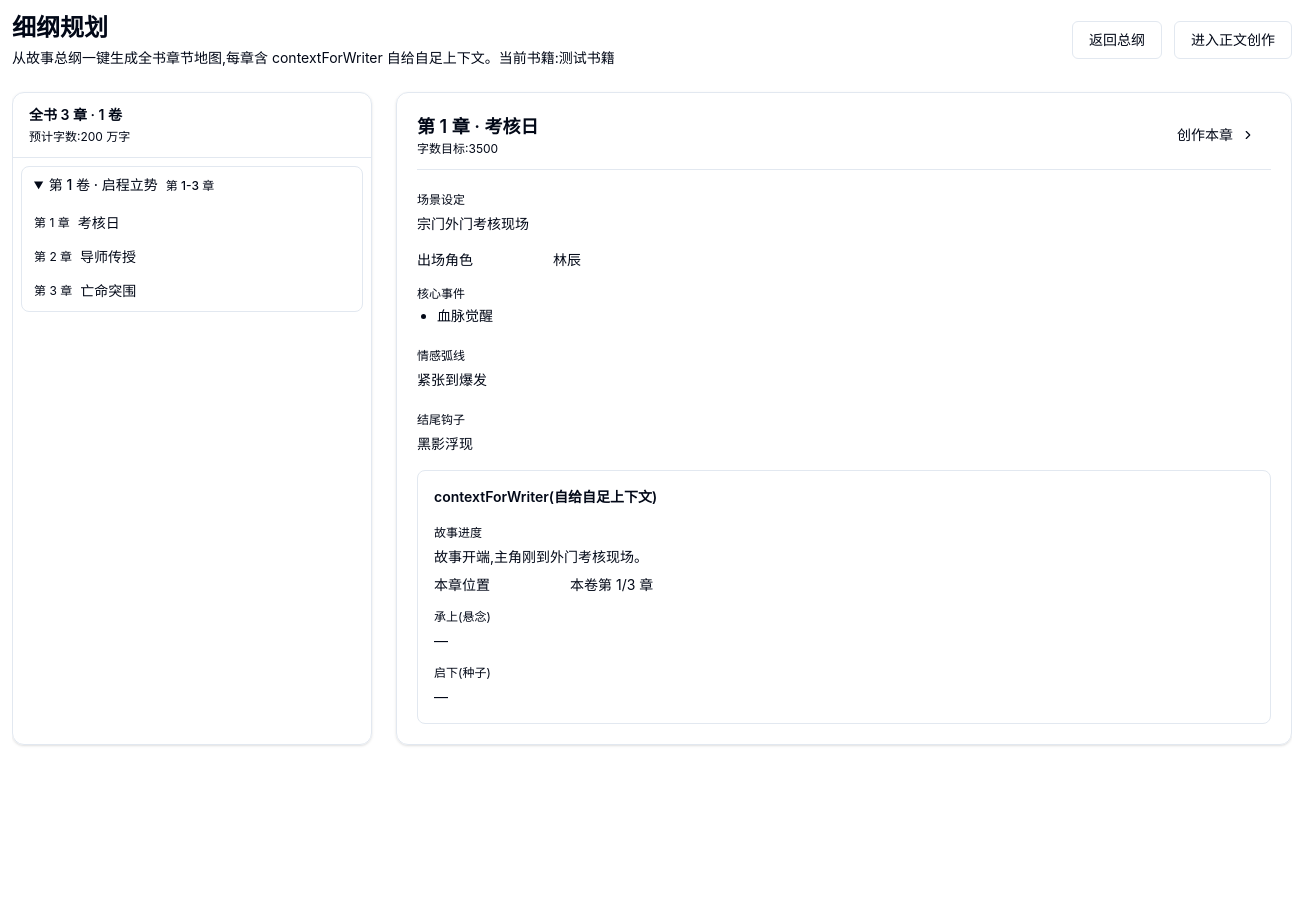
it: ChapterPlans Page (DetailedOutline) › switches the right panel when clicking a chapter
Expected: the text "考核日" is shown, [78,214,120,231]
Step 1. Click the text "导师传授" → [108, 256], box [80,248,136,265]
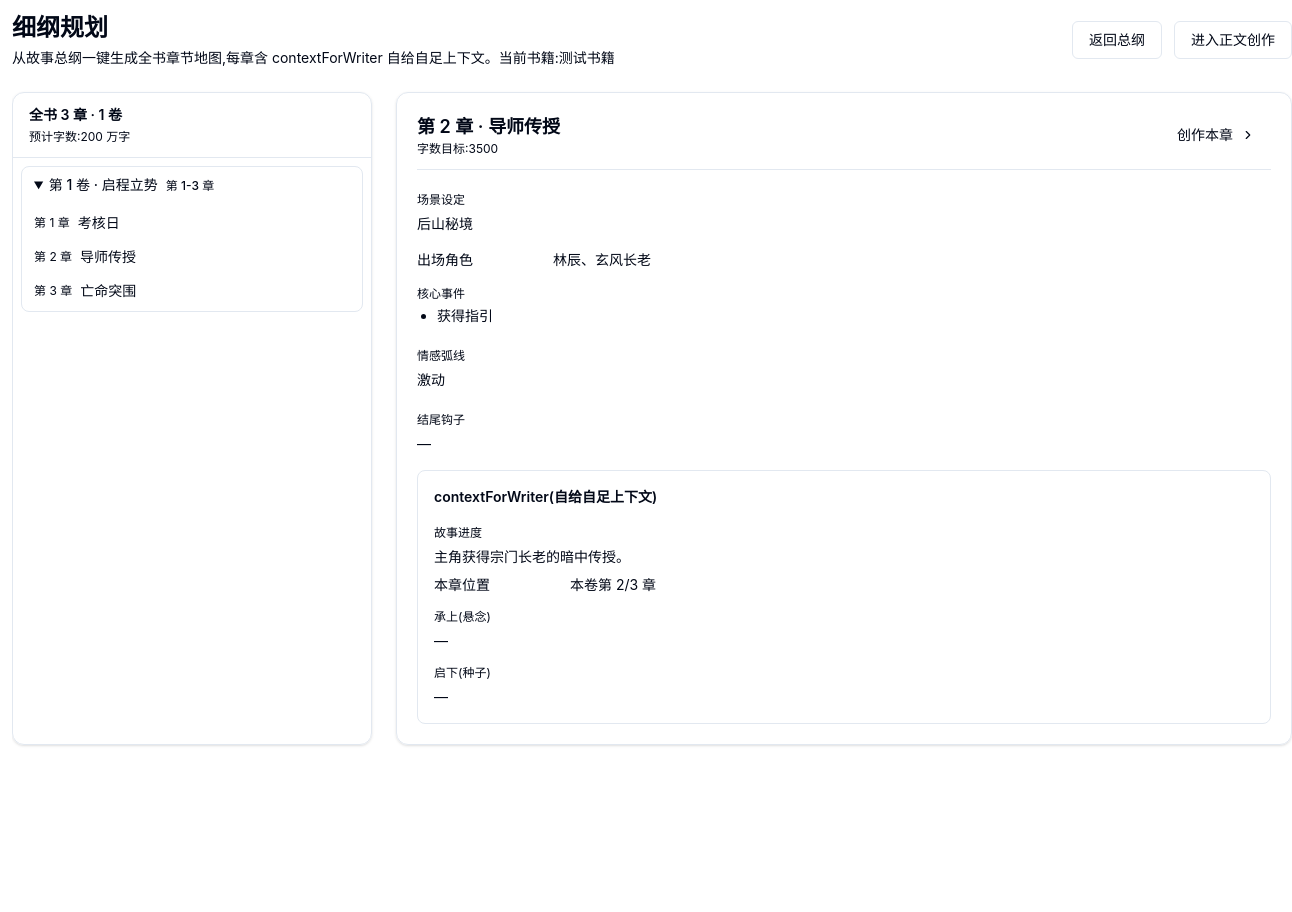
Now the heading "第 2 章 · 导师传授" is shown, box [417,113,560,141]
Now the text "主角获得宗门长老的暗中传授。" is shown, box [434,548,630,565]
